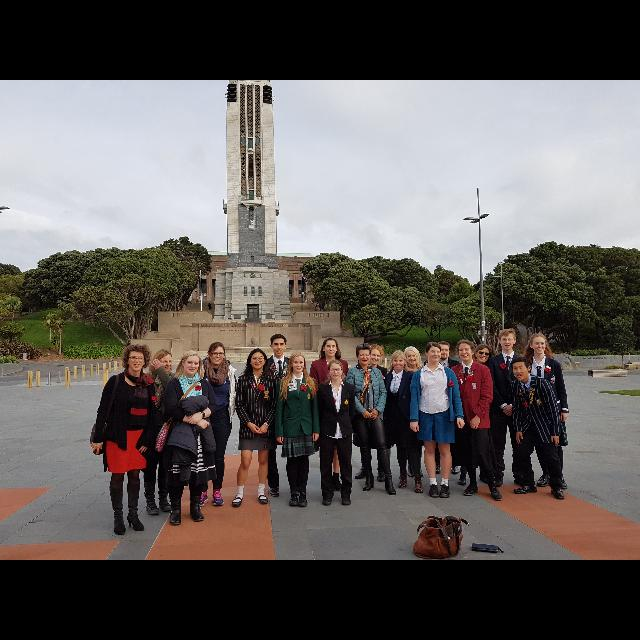head: (126, 344, 146, 372), (181, 350, 201, 376), (511, 356, 531, 380), (154, 350, 172, 372), (249, 348, 267, 370), (457, 341, 475, 362), (208, 344, 225, 366), (499, 330, 517, 350), (529, 334, 547, 354), (474, 344, 491, 364), (270, 336, 286, 356), (322, 338, 338, 358), (327, 360, 343, 380), (425, 342, 441, 362), (368, 344, 382, 366), (391, 352, 407, 371), (291, 352, 305, 372), (356, 347, 370, 365), (405, 346, 417, 366), (438, 342, 450, 360)
person: (90, 341, 158, 537), (158, 348, 218, 532), (180, 339, 242, 509), (442, 340, 504, 504), (406, 340, 466, 500), (339, 342, 398, 496), (508, 353, 568, 501), (518, 330, 572, 490), (258, 331, 310, 497), (232, 345, 282, 511), (136, 347, 184, 518), (271, 348, 321, 510), (482, 328, 530, 487), (376, 348, 426, 496), (309, 356, 356, 510), (306, 336, 352, 490), (420, 339, 468, 476), (348, 340, 392, 482), (458, 341, 498, 485), (390, 345, 432, 479)
